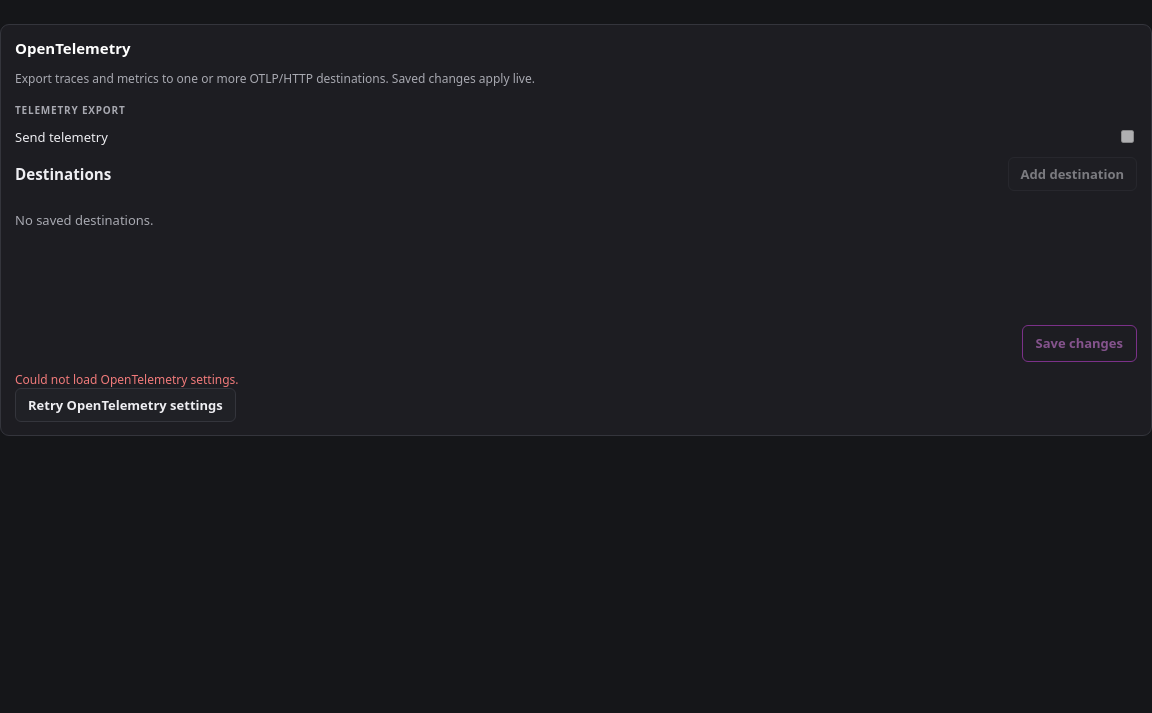
Test: retries a failed read without displaying the backend error or inventing saved settings
Check: the message shows "Could not load", box x1=15 y1=371 x2=238 y2=388
Step 1. Click the button "Retry OpenTelemetry settings" → (125, 405), box x1=15 y1=388 x2=236 y2=422
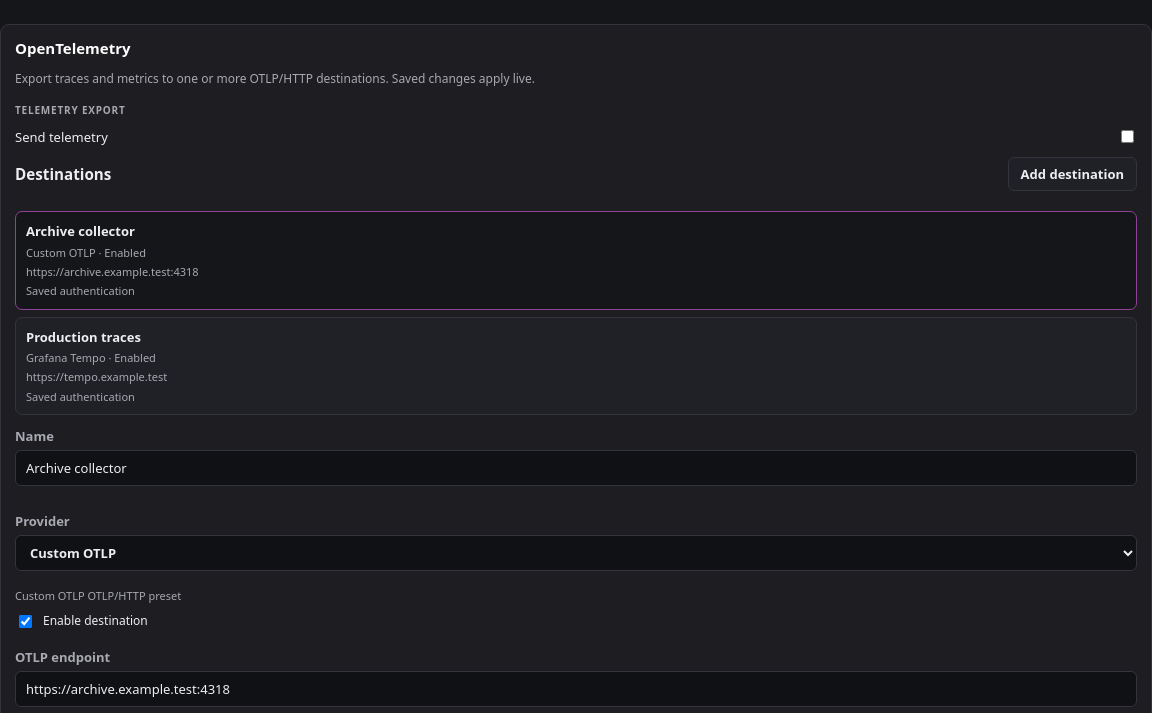
Check: the field labelled "Name" holds "Archive collector", box x1=15 y1=450 x2=1137 y2=486
Check: the button "Production traces" is shown, box x1=15 y1=317 x2=1137 y2=415
